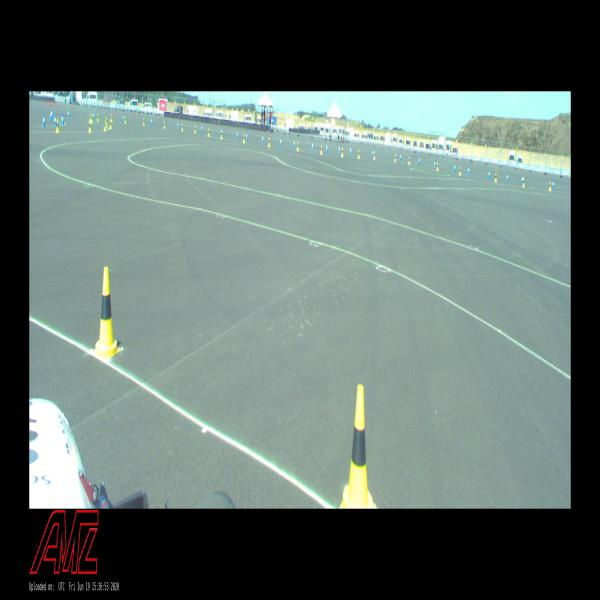blue_cone: (42, 115, 46, 126), (61, 114, 64, 125), (54, 115, 57, 125), (468, 166, 470, 175), (488, 170, 490, 179), (280, 138, 282, 146), (326, 144, 328, 152), (262, 135, 264, 143), (521, 176, 523, 184), (434, 160, 436, 167), (201, 125, 203, 132), (236, 131, 238, 138), (372, 150, 374, 157), (177, 122, 179, 128), (553, 180, 554, 188), (339, 146, 340, 154), (246, 132, 247, 140), (294, 140, 295, 148), (312, 142, 313, 150), (454, 164, 455, 172), (151, 118, 152, 125), (507, 173, 508, 180), (419, 157, 420, 164), (350, 147, 351, 154), (123, 116, 124, 122), (400, 154, 401, 160)
yellow_cone: (340, 385, 376, 508), (94, 267, 120, 362), (56, 120, 60, 132), (88, 121, 92, 132), (104, 120, 107, 130), (320, 145, 323, 154), (549, 181, 551, 190), (495, 173, 497, 181), (268, 138, 270, 146), (459, 166, 461, 174), (243, 134, 245, 142), (358, 150, 360, 158), (208, 128, 210, 136), (297, 142, 299, 150), (522, 178, 524, 186), (110, 120, 112, 128), (143, 118, 145, 125), (194, 126, 196, 132), (97, 114, 99, 120), (409, 156, 410, 164), (395, 154, 396, 162), (374, 151, 375, 159), (437, 163, 438, 170), (342, 148, 343, 155), (182, 123, 183, 130), (125, 116, 126, 123), (164, 121, 165, 127), (221, 132, 222, 138)
